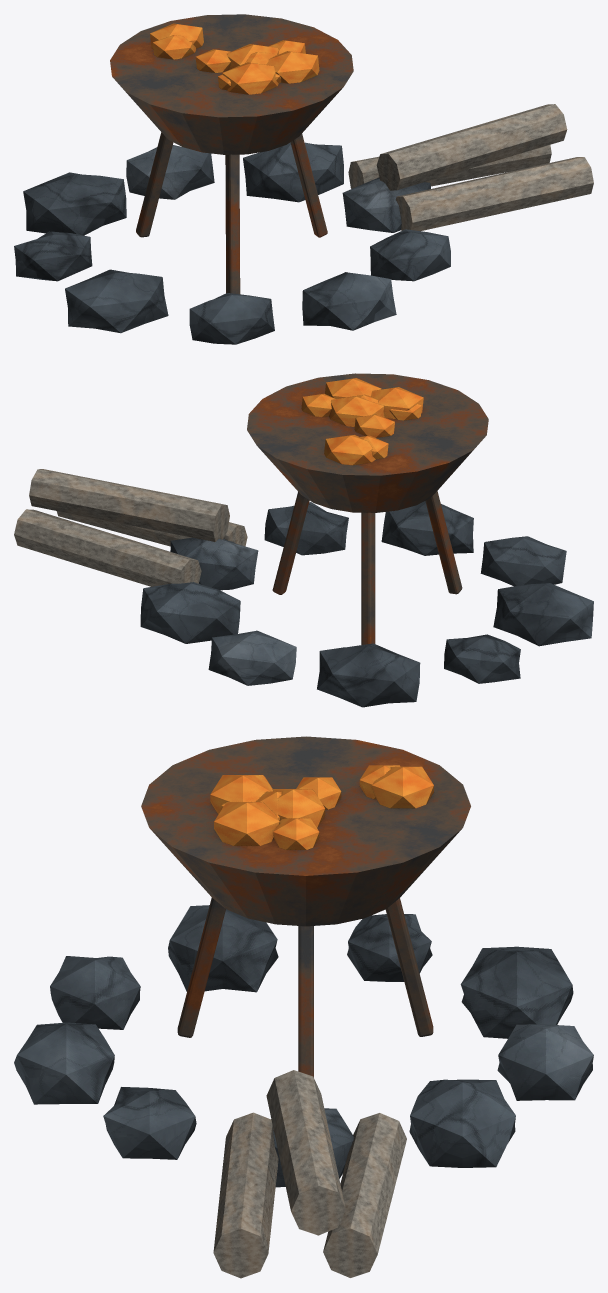
File: snow_brazier.glb
The picture shows the model from 3 angles, top to bottom: view 1: azimuth 30°, elevation 25°; view 2: azimuth 150°, elevation 25°; view 3: azimuth 270°, elevation 25°; orthographic projection. The views are drawn at different scales.
Visible parts, largest first — view 1: snow_brazier; view 2: snow_brazier; view 3: snow_brazier.
Boxes of the visible parts, bbox=[...] form: snow_brazier: bbox=[14, 14, 593, 344]; snow_brazier: bbox=[14, 373, 593, 707]; snow_brazier: bbox=[14, 736, 593, 1278].
Size of the model in its own units: 2.08 by 0.8089 by 1.48.
4 materials, 4 textured.
